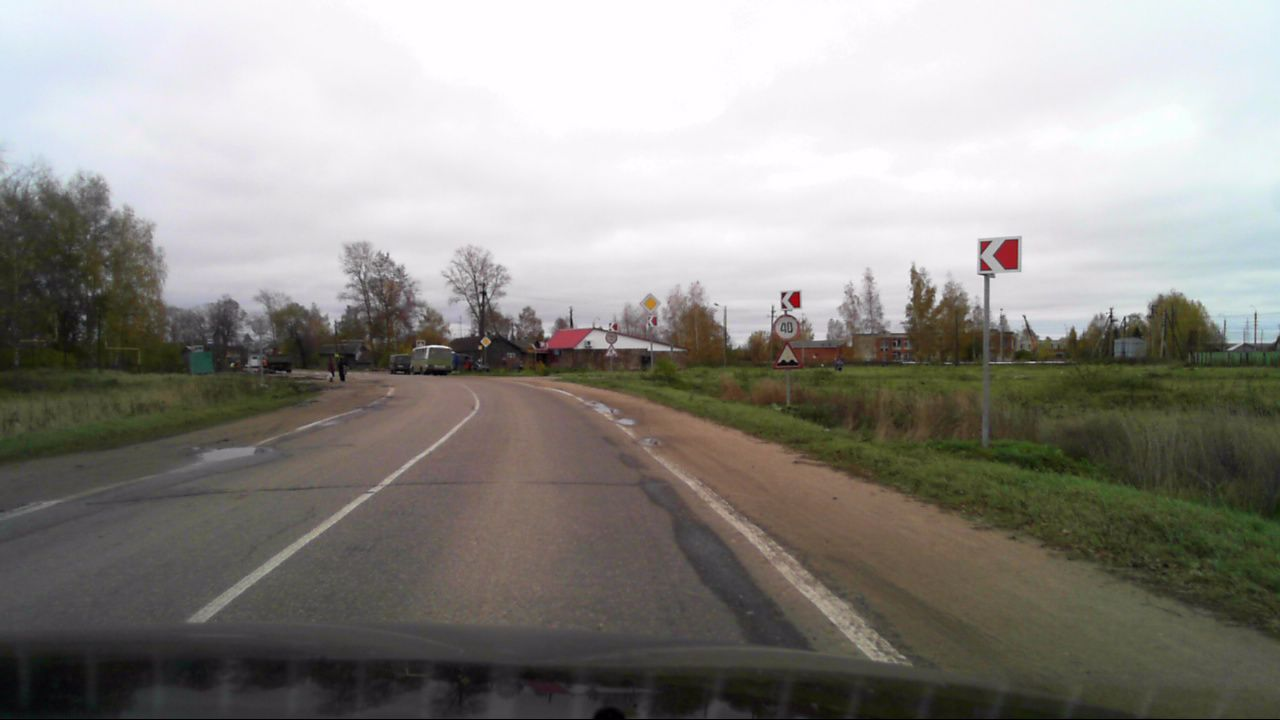speed_warning_40: (773, 314, 800, 342)
